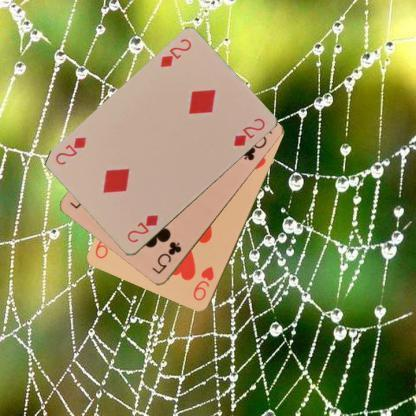2d: (124, 212, 160, 244), (158, 36, 192, 69)
5c: (149, 239, 183, 276)
9h: (190, 264, 216, 303)
